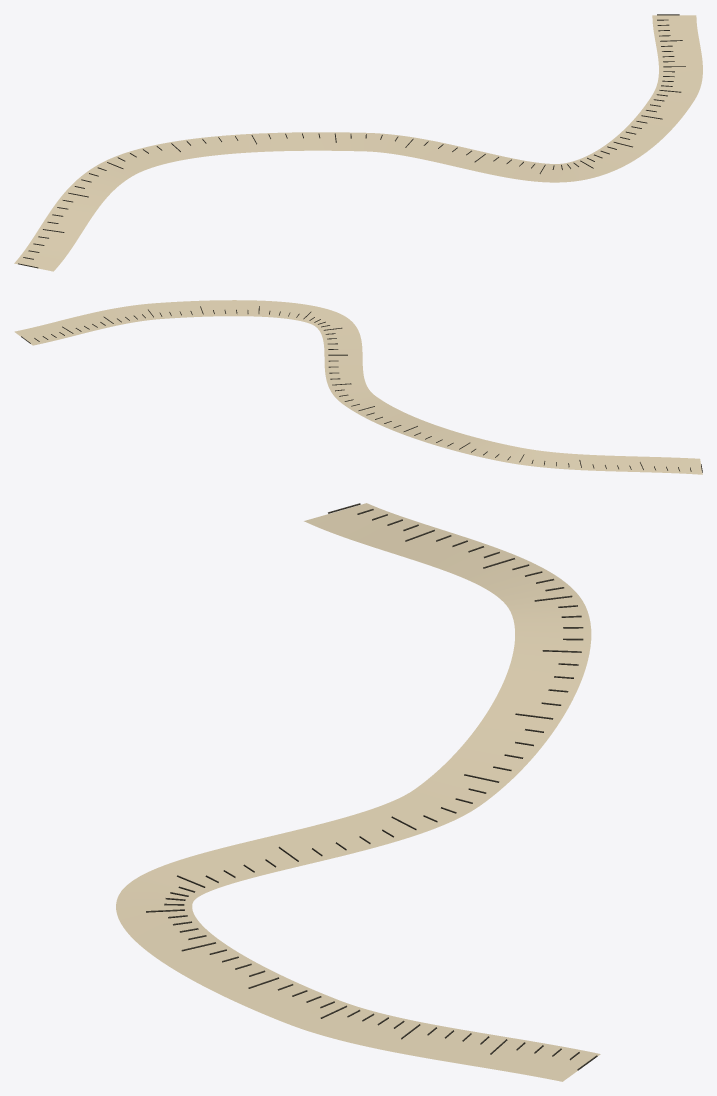
File: atelier-measuring-tape.glb
3 views of the same model, one above another, from view 1: azimuth 30°, elevation 25°; view 2: azimuth 150°, elevation 25°; view 3: azimuth 270°, elevation 25° (orthographic). The views are drawn at different scales.
Visible parts, largest first — view 1: atelier-tape-cloth, atelier-tape-measure-marks; view 2: atelier-tape-cloth, atelier-tape-measure-marks; view 3: atelier-tape-cloth, atelier-tape-measure-marks.
Boxes of the visible parts, x1,y1,x2,y2 form: atelier-tape-cloth: [14, 15, 702, 271]; atelier-tape-measure-marks: [18, 14, 685, 268]; atelier-tape-cloth: [14, 300, 702, 474]; atelier-tape-measure-marks: [21, 306, 702, 472]; atelier-tape-cloth: [116, 503, 600, 1081]; atelier-tape-measure-marks: [146, 503, 597, 1070].
Size of the model in its own units: 1.32 by 0.0468 by 0.4327.
